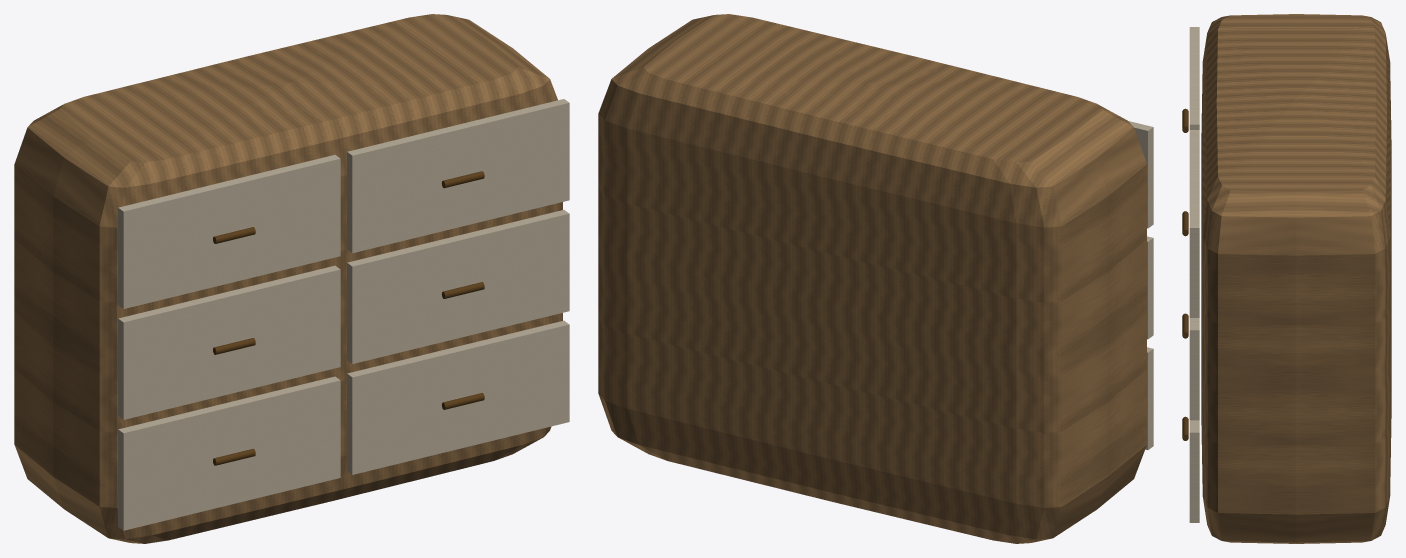
Rendered from dresser-1200_lod1.glb.
3 renders of one model, left to right at view 1: azimuth 30°, elevation 25°; view 2: azimuth 150°, elevation 25°; view 3: azimuth 270°, elevation 25°, orthographic. The views are drawn at different scales.
Visible parts, largest first — view 1: body, drawer_1_1, drawer_1_2, drawer_2_1, drawer_3_1, drawer_3_2, drawer_2_2; view 2: body, drawer_3_1, drawer_1_1, drawer_2_1; view 3: body, drawer_3_2, drawer_1_2, drawer_3_1, drawer_2_2.
Part boxes in pixels (<box>): body: <box>14,14,562,543</box>; drawer_1_1: <box>118,376,340,530</box>; drawer_1_2: <box>347,320,569,474</box>; drawer_2_1: <box>118,265,340,419</box>; drawer_3_1: <box>118,155,340,308</box>; drawer_3_2: <box>347,99,569,253</box>; drawer_2_2: <box>347,210,569,363</box>; body: <box>598,14,1146,543</box>; drawer_3_1: <box>1128,121,1153,228</box>; drawer_1_1: <box>1145,347,1153,449</box>; drawer_2_1: <box>1147,236,1153,339</box>; body: <box>1201,14,1391,543</box>; drawer_3_2: <box>1189,130,1199,317</box>; drawer_1_2: <box>1189,420,1199,522</box>; drawer_3_1: <box>1189,27,1199,129</box>; drawer_2_2: <box>1189,318,1199,420</box>.
Size of the model in its own units: 1.2 by 0.95 by 0.5.
3 materials, 3 textured.
